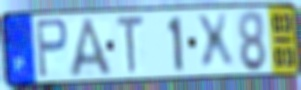1: (166, 14, 185, 74)
8: (236, 8, 268, 74)
A: (68, 16, 116, 80)
P: (33, 17, 70, 81)
T: (115, 14, 146, 78)
X: (193, 11, 237, 73)
